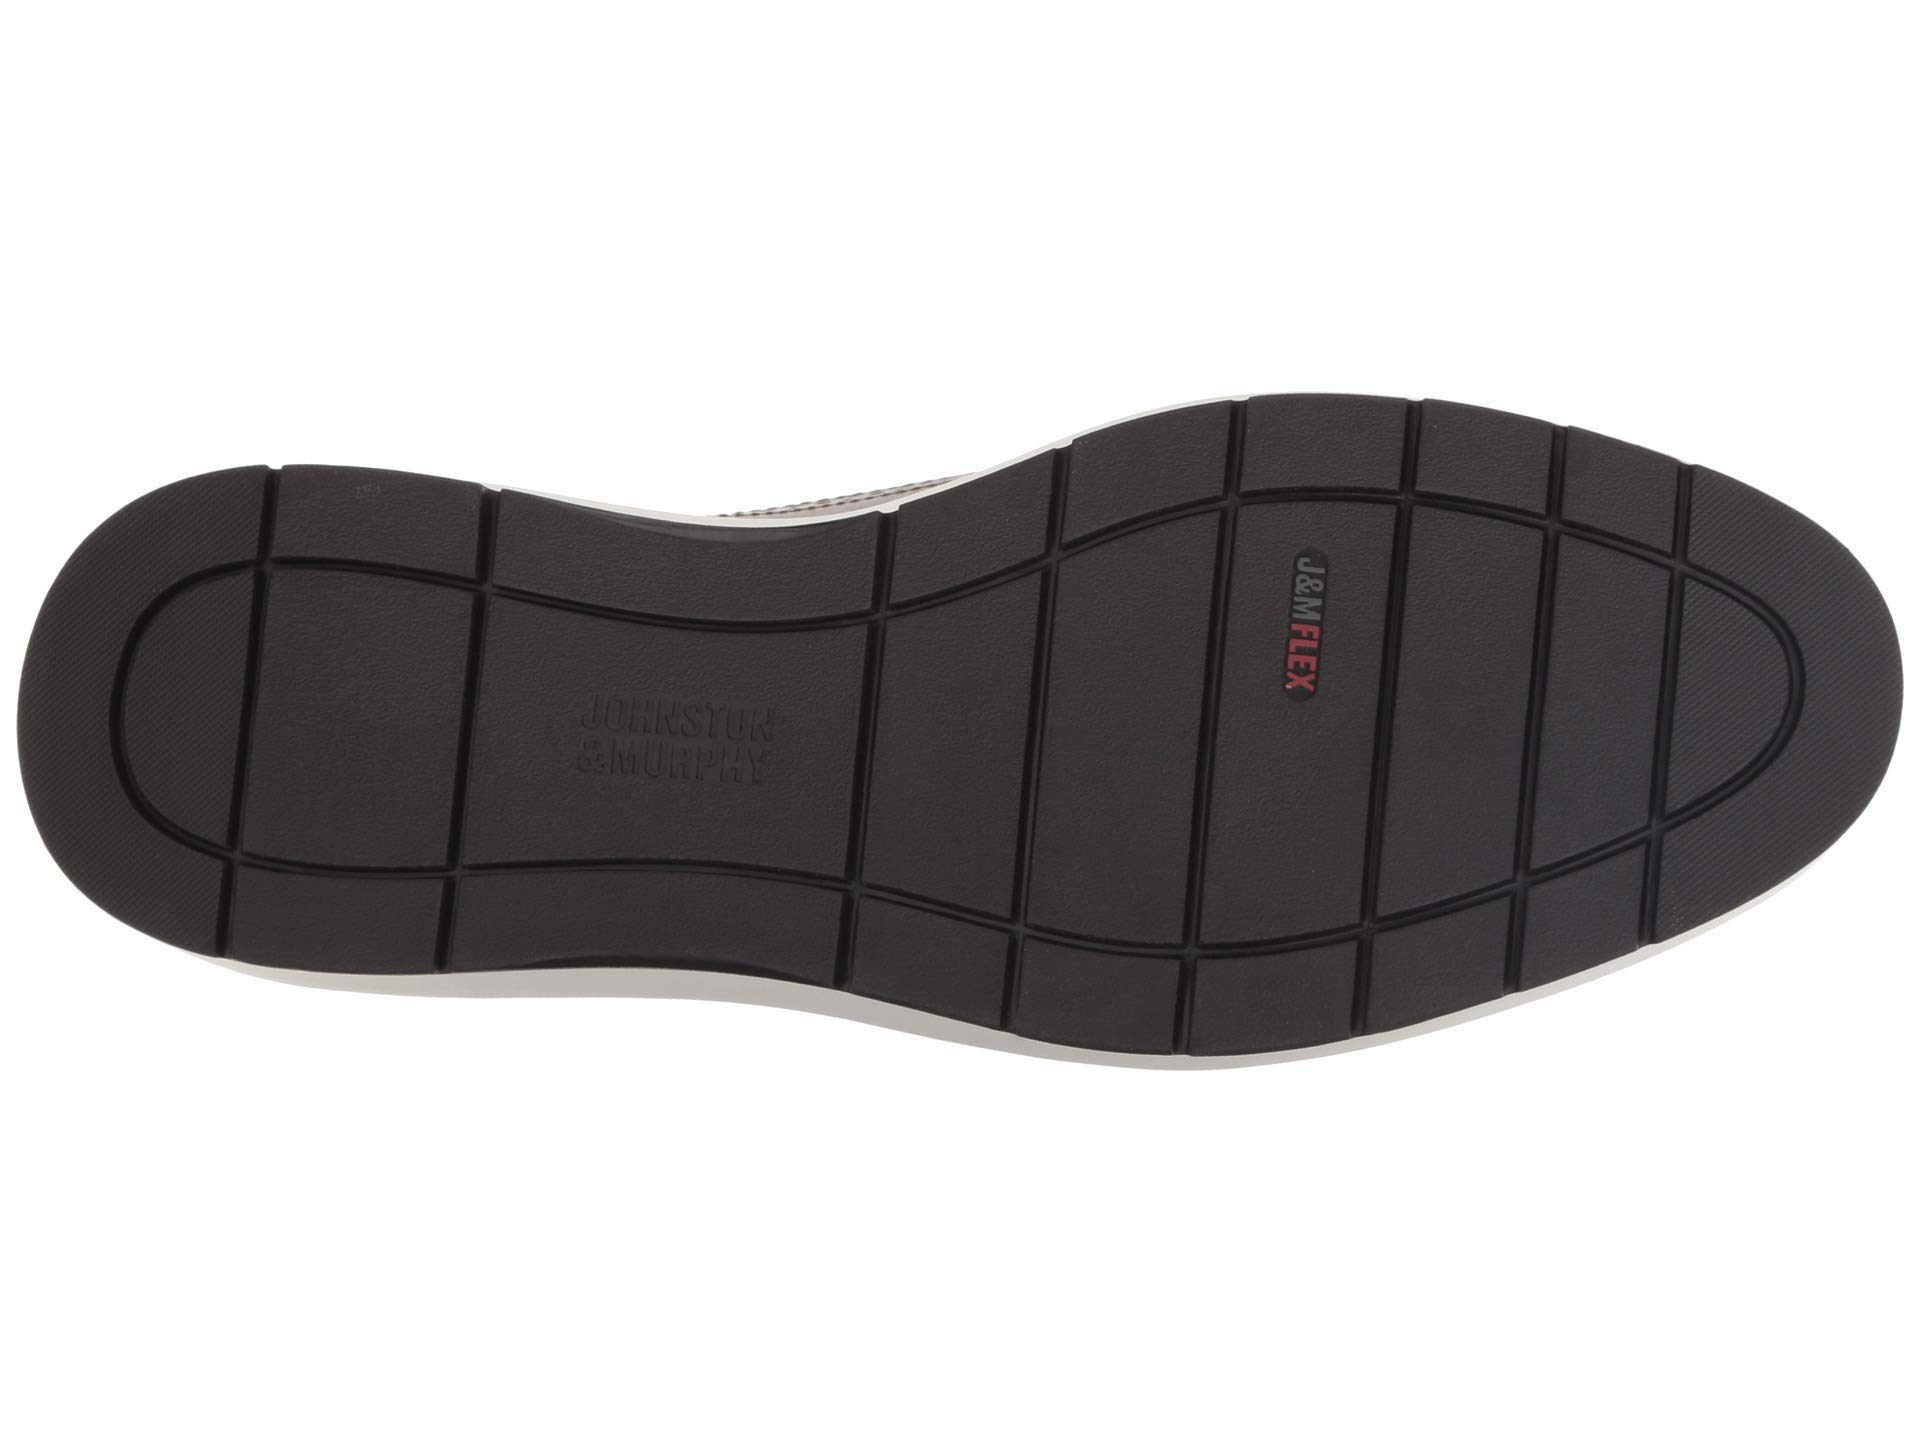quad: (1095, 445, 1569, 976), (194, 495, 599, 945)
